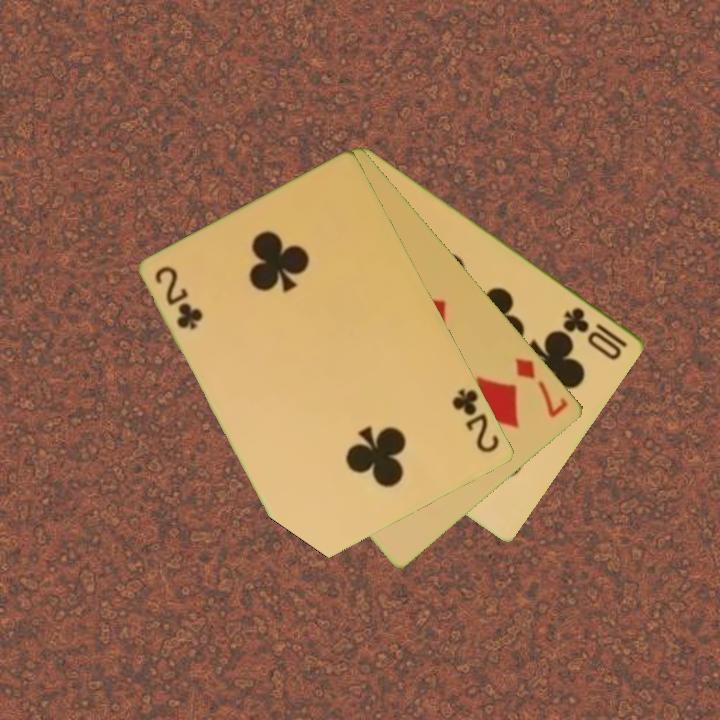10c: (559, 303, 631, 363)
2c: (448, 385, 503, 456), (151, 262, 206, 333)
7d: (511, 354, 572, 421)
